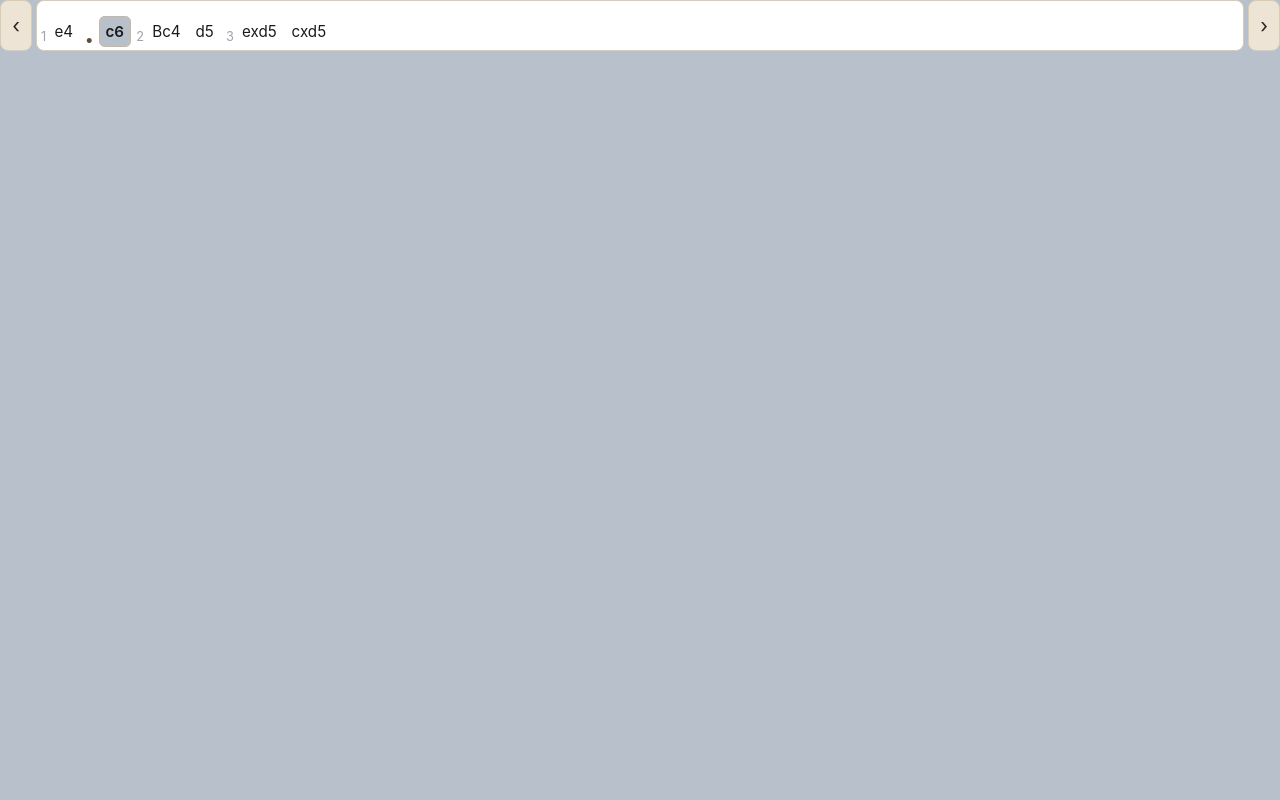
it: HorizontalMoveList › opens a popup on the message badge and dismisses on navigation
Click the button "•": (89, 39) [81,31,97,47]
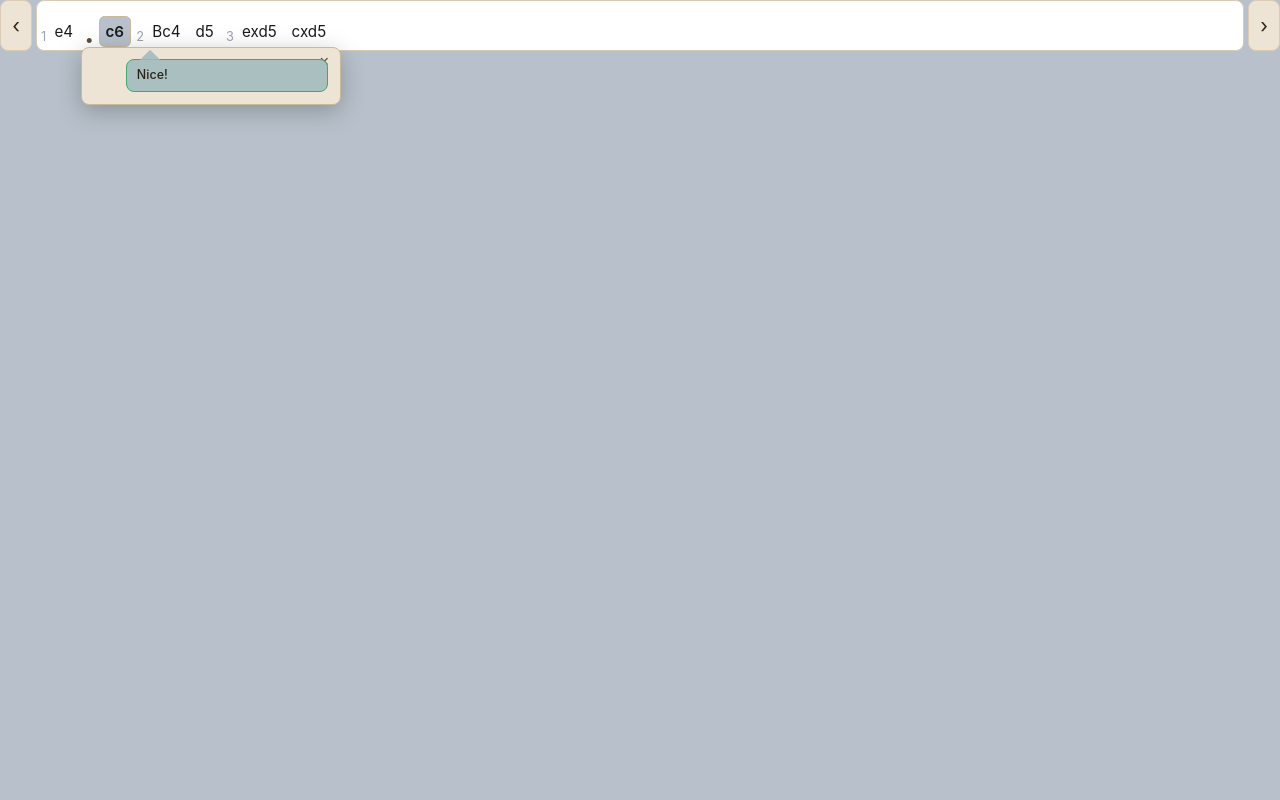
Now the dialog is shown, box [81,47,341,105]
Now the text "Nice!" is shown, box [137,65,168,85]
Note: Navigate → dismiss
Click the button named "Previous move": (16, 26) [0,0,32,52]
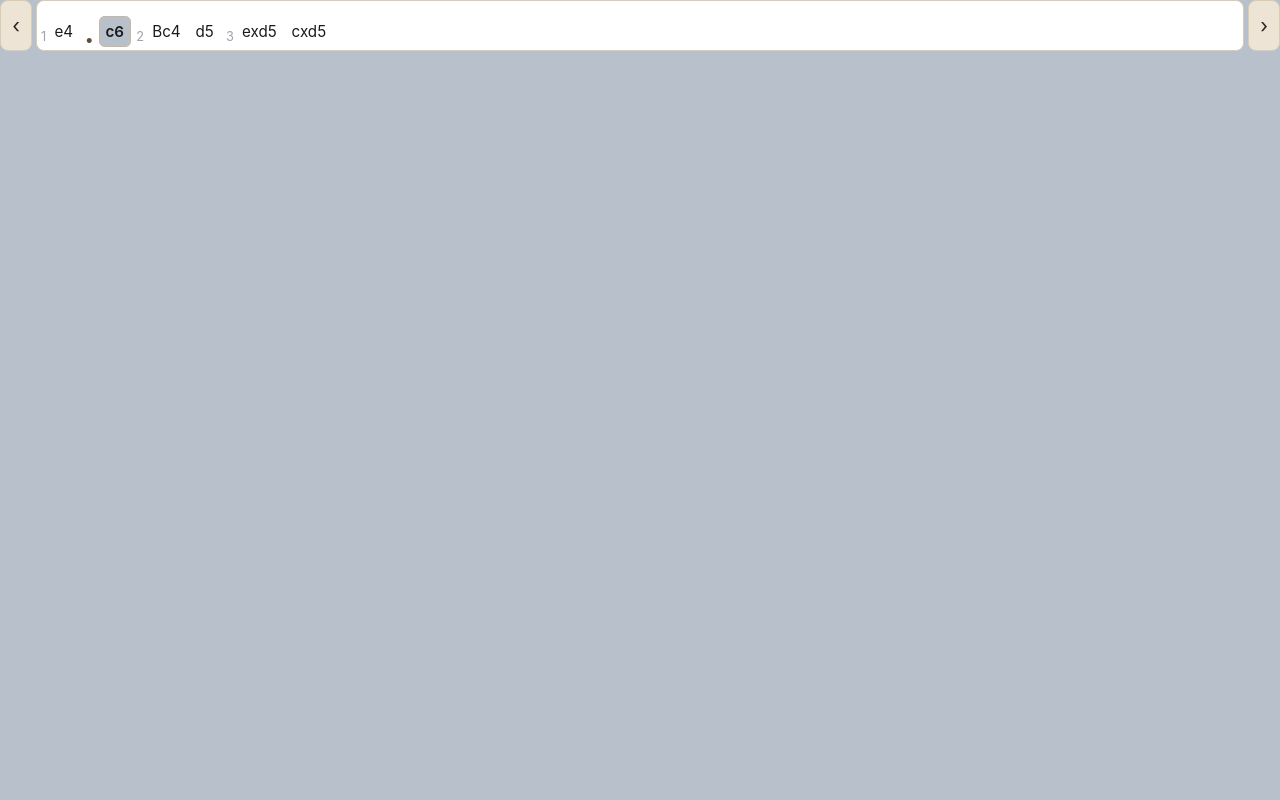
Now the dialog is gone
